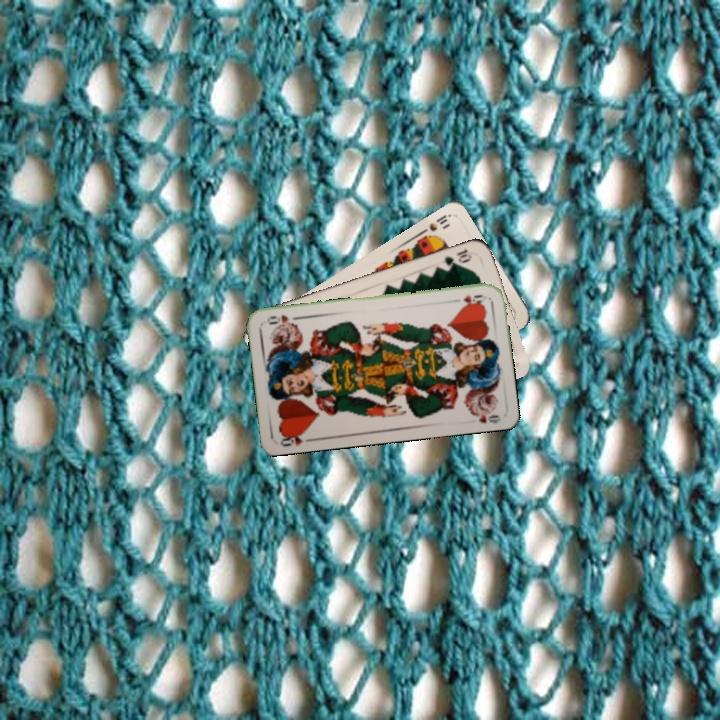G10: (440, 244, 474, 270)
HO: (276, 427, 316, 449), (449, 290, 485, 307)
S10: (416, 210, 453, 237)
